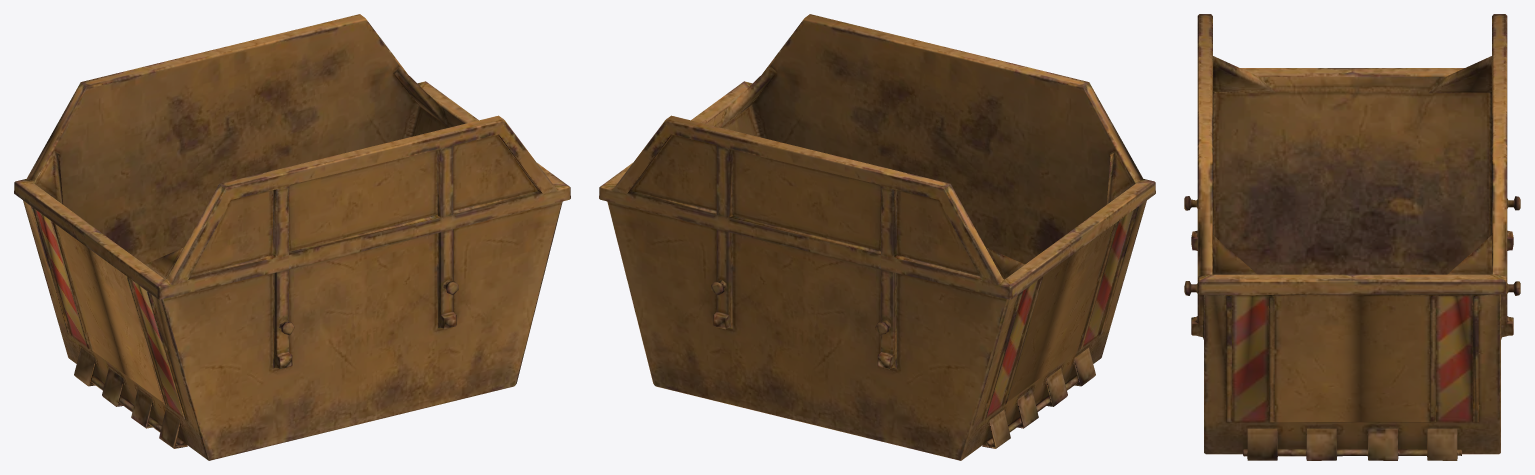
File: coaling_tower_scrap_collector_bin.glb
The picture shows the model from 3 angles, left to right: view 1: azimuth 30°, elevation 25°; view 2: azimuth 150°, elevation 25°; view 3: azimuth 270°, elevation 25°; orthographic projection. The views are drawn at different scales.
Visible parts, largest first — view 1: coaling_tower_scrap_collector_bin; view 2: coaling_tower_scrap_collector_bin; view 3: coaling_tower_scrap_collector_bin.
Part boxes in pixels (<box>): coaling_tower_scrap_collector_bin: <box>14,14,570,460</box>; coaling_tower_scrap_collector_bin: <box>599,14,1155,460</box>; coaling_tower_scrap_collector_bin: <box>1184,14,1520,460</box>.
Bounding box in the file's own units: 3.47 × 2.19 × 2.31.
1 material, 1 textured.
